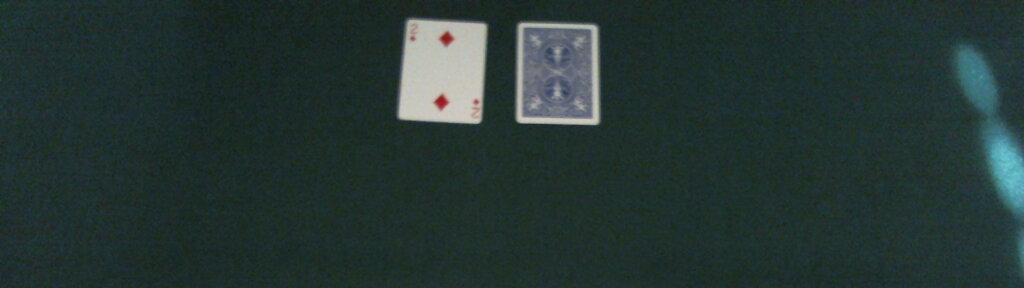back: (513, 23, 600, 124)
two: (395, 18, 487, 125)
